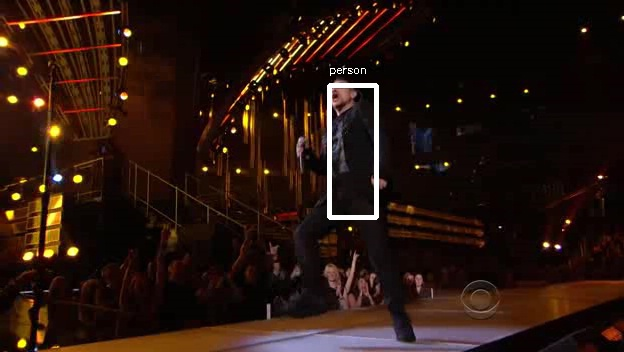person: (309, 77, 380, 227), (306, 77, 377, 227), (312, 77, 383, 227), (309, 74, 380, 224), (309, 80, 380, 230)
target_negative: (491, 72, 515, 310), (279, 187, 440, 212), (584, 199, 604, 301), (251, 338, 509, 344), (461, 221, 551, 232), (559, 241, 565, 321)
